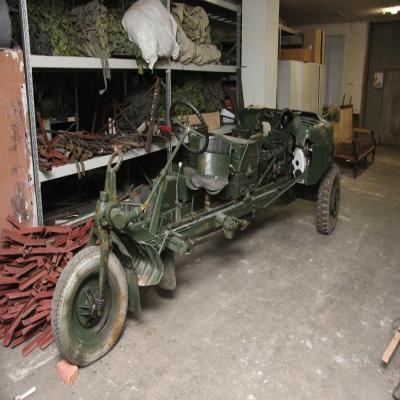weapon: (50, 109, 340, 371)
